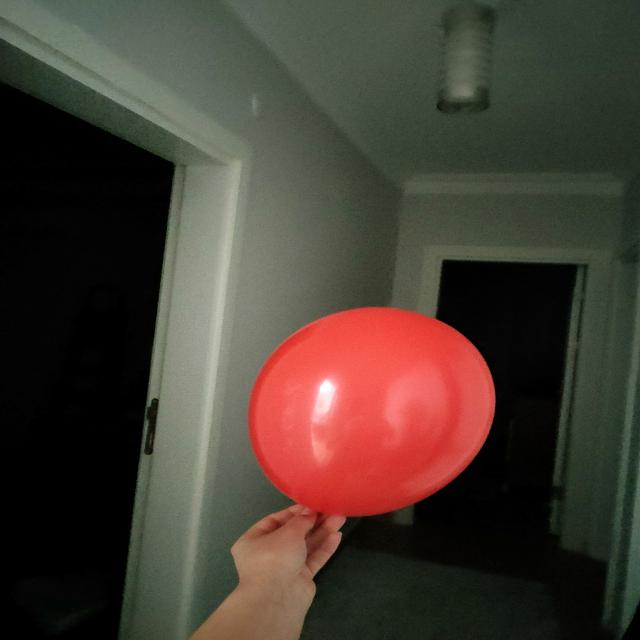red: (251, 308, 495, 517)
